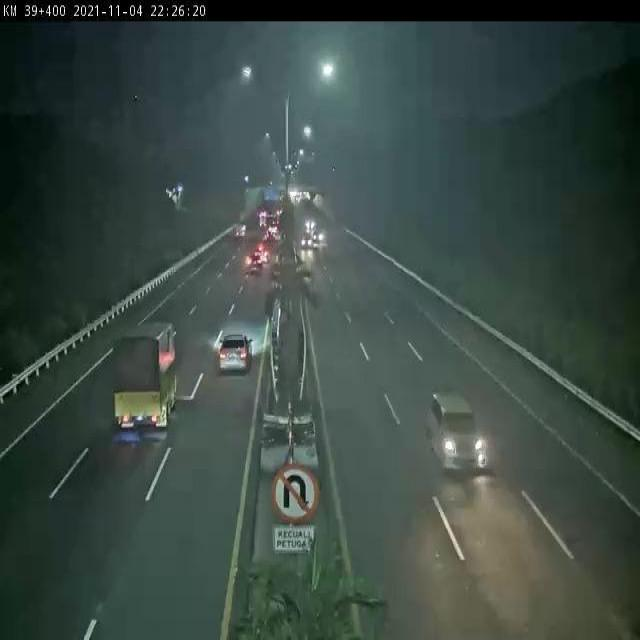car: (429, 392, 486, 472), (219, 335, 253, 372)
small truck: (113, 322, 177, 426)
